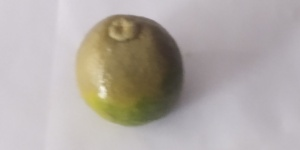BAD: (72, 15, 182, 124)
